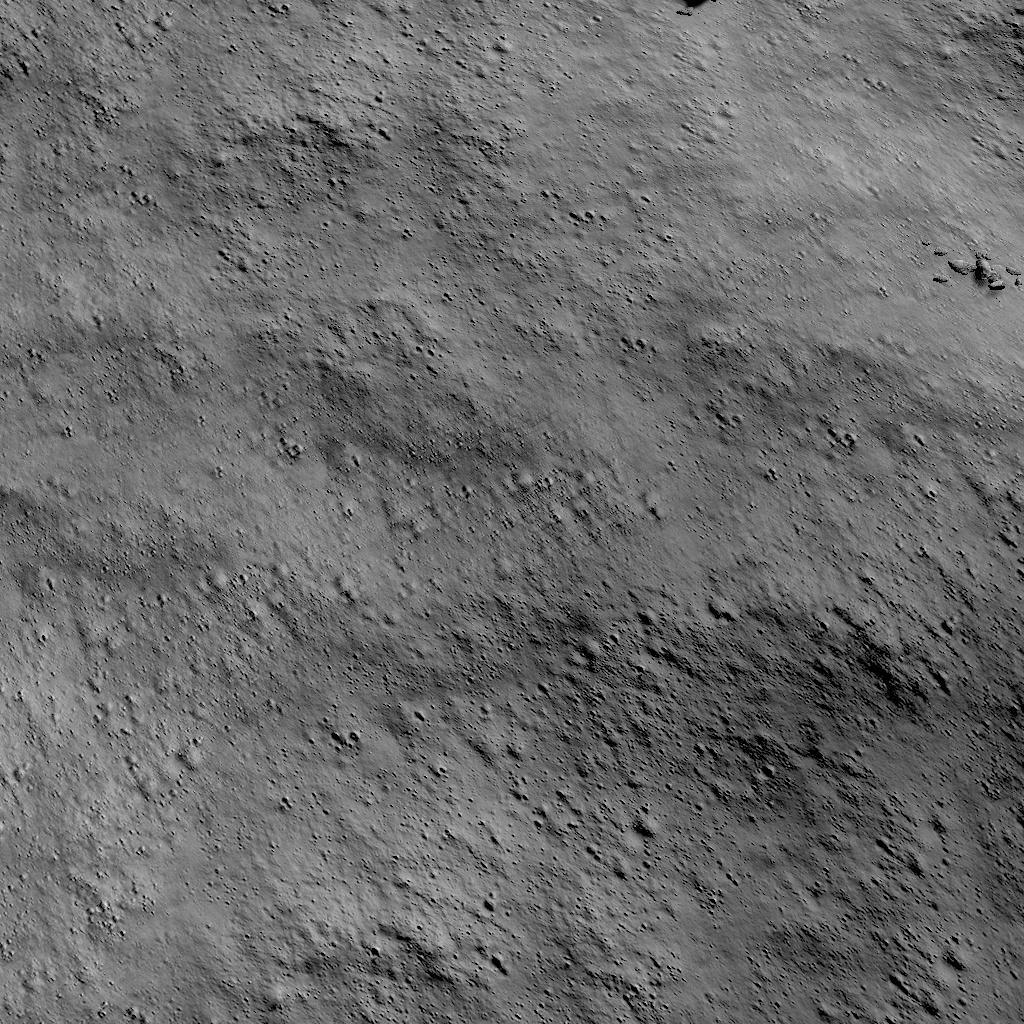Plan surface: (0, 305, 1024, 1024), (0, 0, 923, 290)
